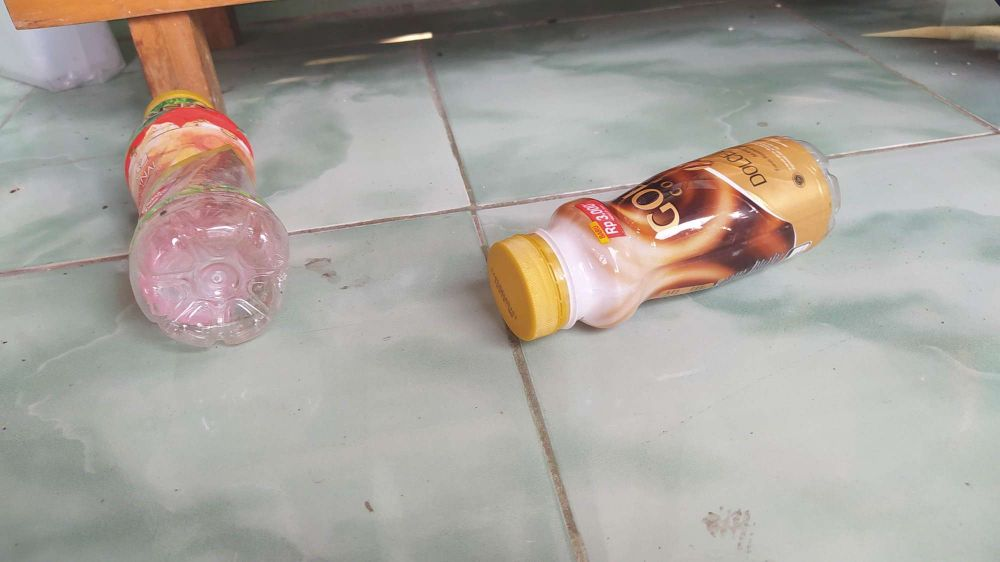botol: (483, 141, 842, 351), (87, 84, 308, 346)
